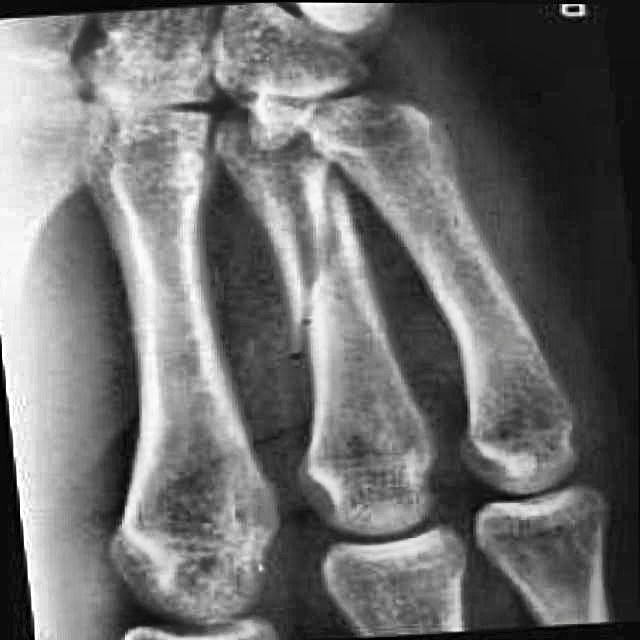Oblique Displaced: (242, 155, 388, 380)
